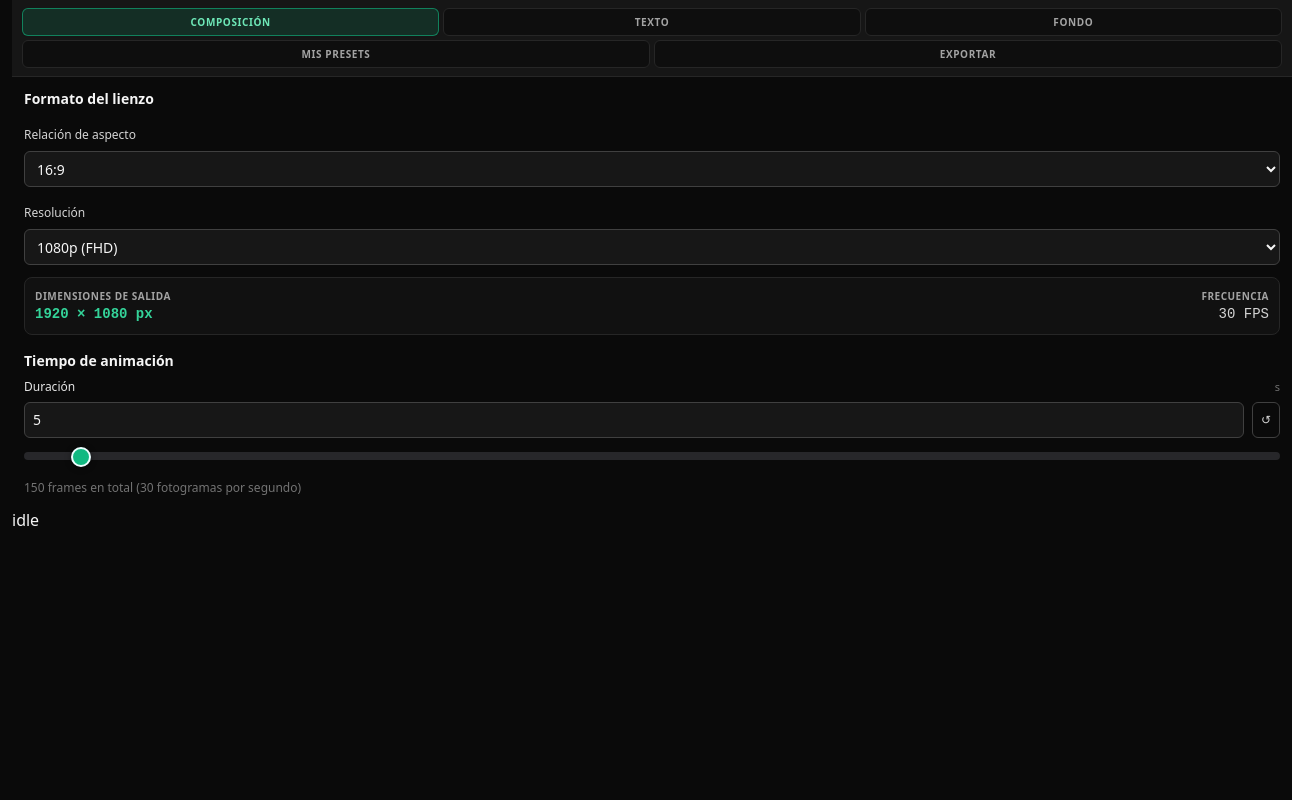
Test: InspectorPanel tabs › comunica Exportación completada cuando la UI individual escribe mediante File System Access
Click the tab "Exportar". click: [968, 54]
box: [654,40,1282,68]
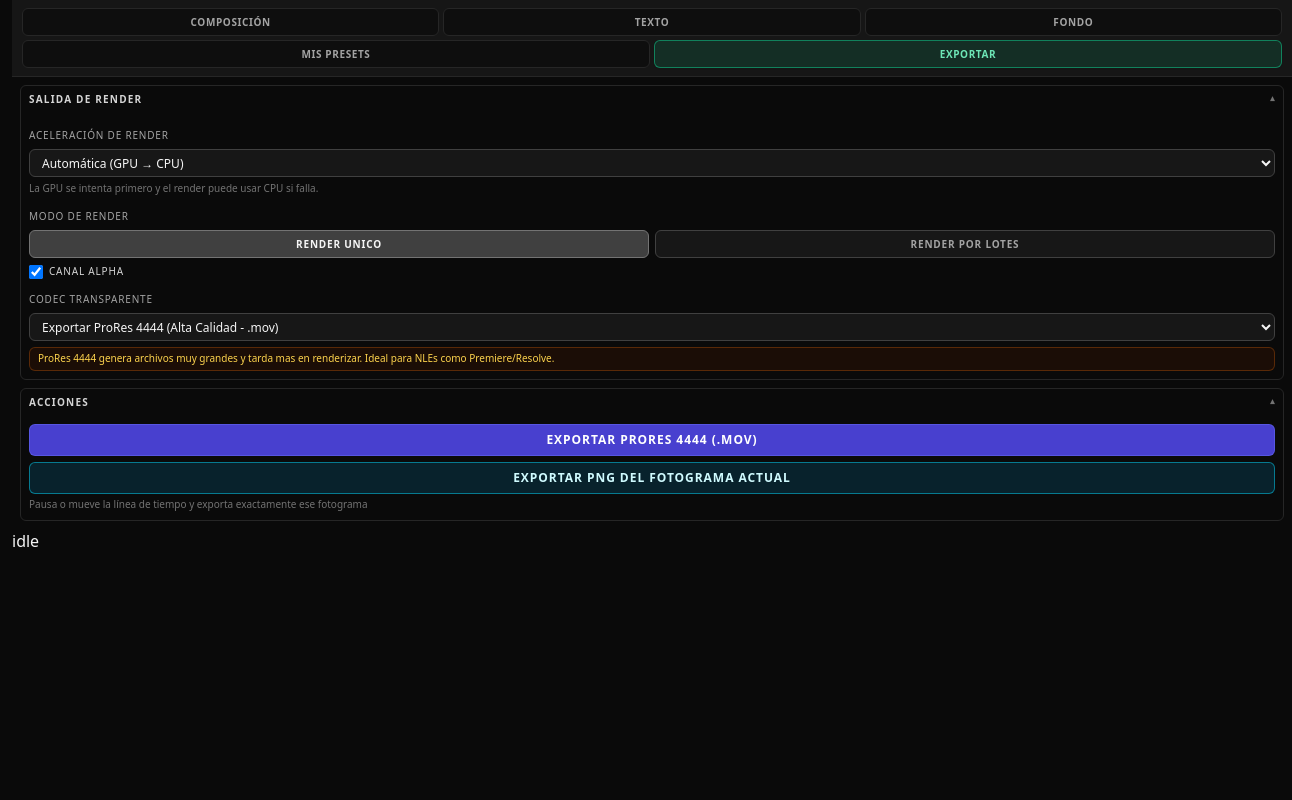
Click the button "Exportar ProRes 4444 (.mov)". click: [652, 440]
box: [29,424,1275,456]
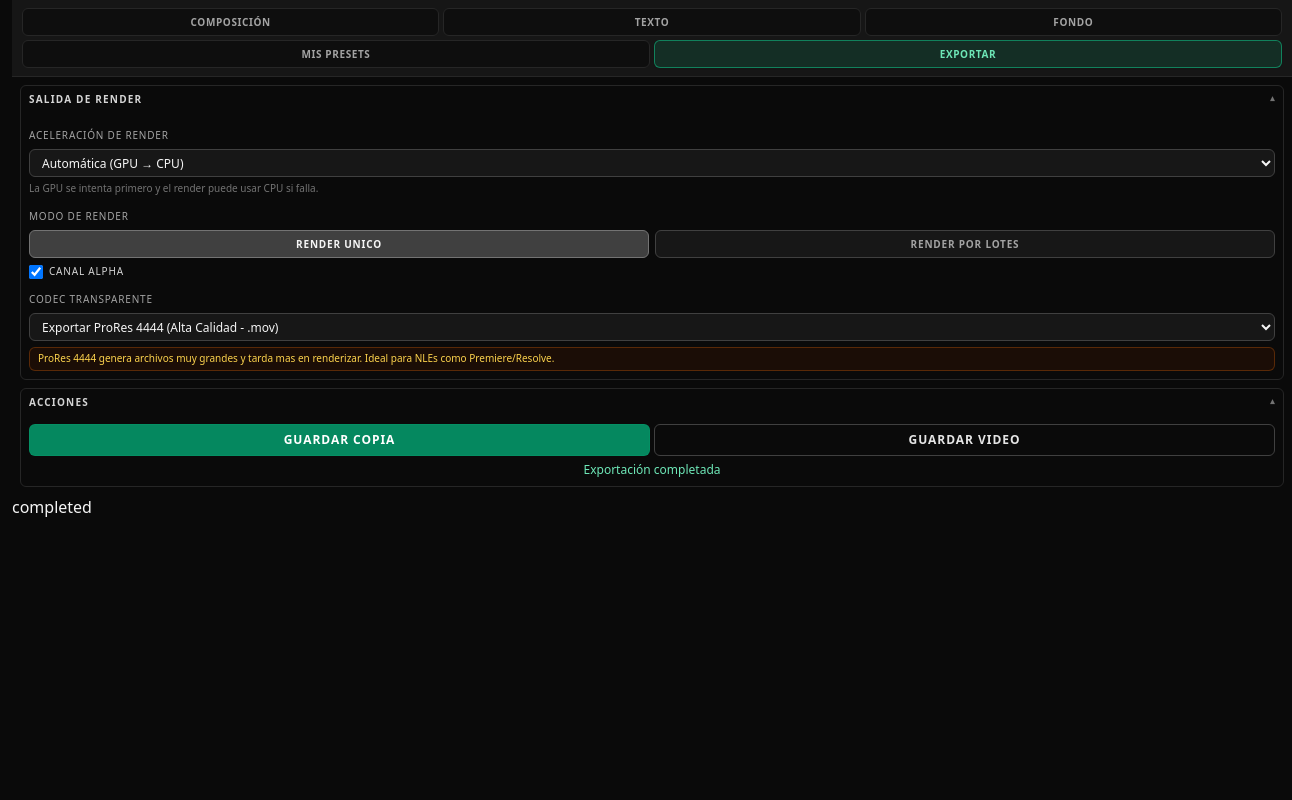
Expected: the text with test id "export-status" reads "completed", [12,496,92,518]
